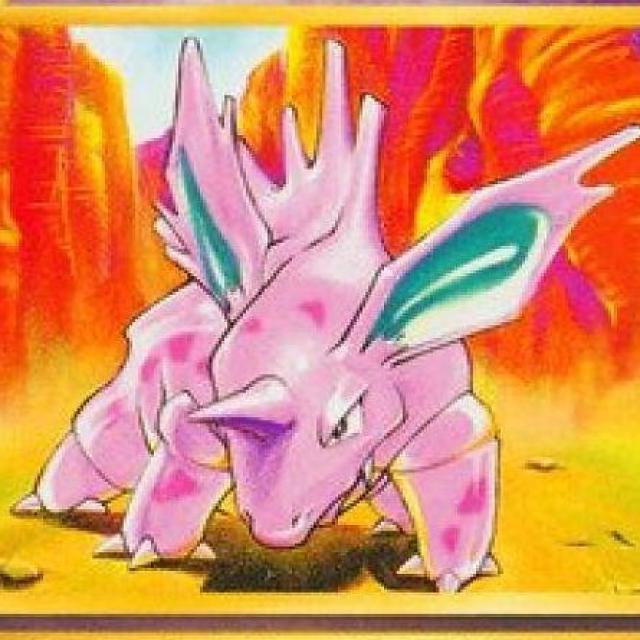Nidorino: (44, 124, 491, 589)
